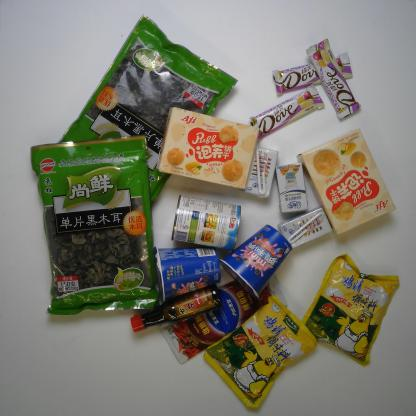Canned Food: (166, 194, 247, 252)
Chocolate: (306, 36, 364, 122), (244, 85, 332, 139), (266, 51, 355, 93)
Dessert: (297, 126, 403, 234), (154, 104, 263, 192), (218, 221, 304, 301), (149, 244, 224, 301)
Dried Food: (46, 14, 243, 210), (29, 135, 172, 320)
Milk: (270, 159, 313, 216), (276, 207, 334, 249), (240, 142, 280, 200)
Seasoner: (199, 293, 326, 412), (299, 251, 405, 369), (122, 278, 226, 333), (162, 300, 226, 362), (213, 276, 272, 326)
